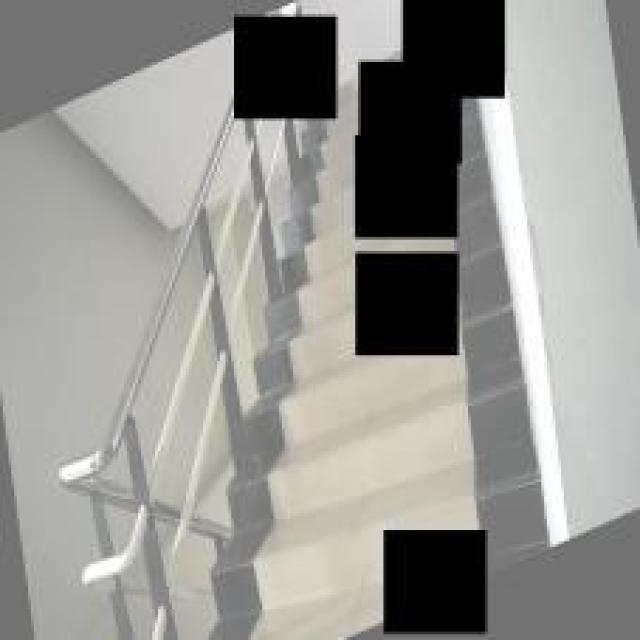upstair: (233, 362, 557, 528)
